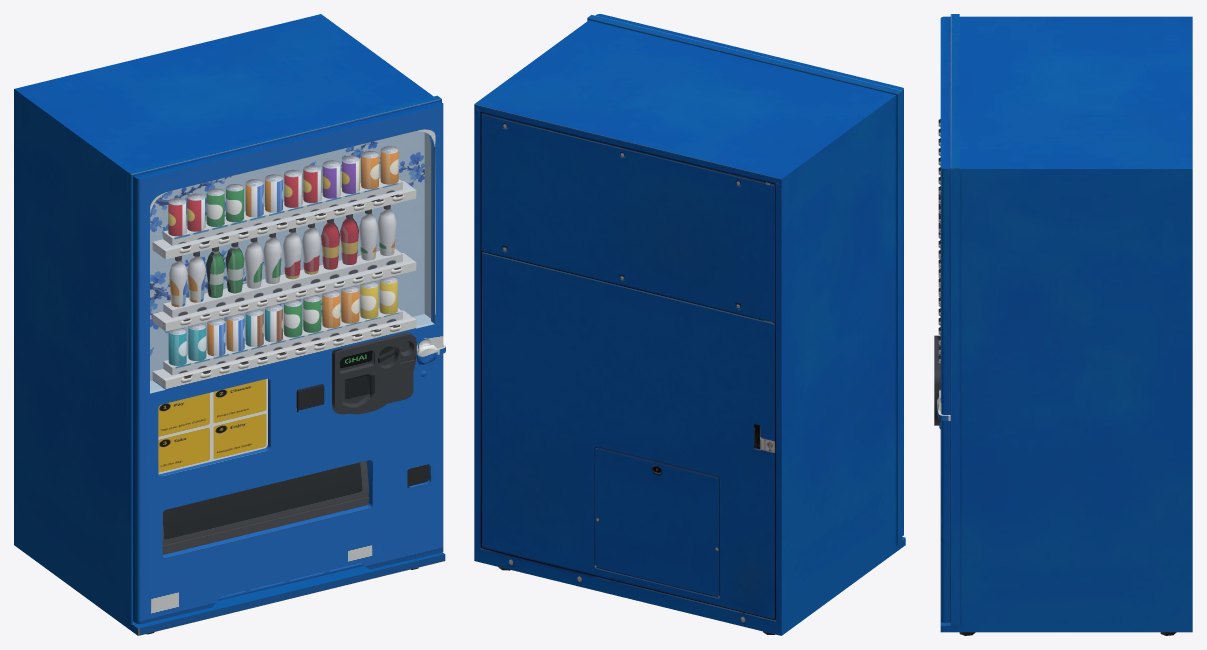
The model's file is vending-machine.glb.
The picture shows the model from 3 angles, left to right: view 1: azimuth 30°, elevation 25°; view 2: azimuth 150°, elevation 25°; view 3: azimuth 270°, elevation 25°; orthographic projection.
Visible parts, largest first — view 1: front and sides_7, Glass_10, inside_front_1, drinks.001_14, drinks_15, instructions_5, drinks.002_16, part1_0, buttons_8, inside_walk_2, drinks.005_19; view 2: back_3, front and sides_7; view 3: front and sides_7, buttons_8, part1_0.
Part boxes in pixels (bbox=[...]): front and sides_7: bbox=[14, 14, 445, 635]; Glass_10: bbox=[150, 131, 432, 390]; inside_front_1: bbox=[150, 131, 424, 380]; drinks.001_14: bbox=[168, 146, 398, 236]; drinks_15: bbox=[168, 276, 397, 365]; instructions_5: bbox=[158, 378, 267, 474]; drinks.002_16: bbox=[206, 209, 396, 297]; part1_0: bbox=[332, 332, 416, 414]; buttons_8: bbox=[179, 194, 403, 382]; inside_walk_2: bbox=[150, 132, 434, 393]; drinks.005_19: bbox=[169, 256, 205, 307]; back_3: bbox=[474, 104, 781, 635]; front and sides_7: bbox=[474, 14, 905, 635]; front and sides_7: bbox=[940, 14, 1192, 632]; buttons_8: bbox=[938, 119, 940, 363]; part1_0: bbox=[934, 335, 940, 425].
Size of the model in its own units: 0.6607 by 0.9523 by 0.4684.
Materials: 16 (12 with a texture image).
